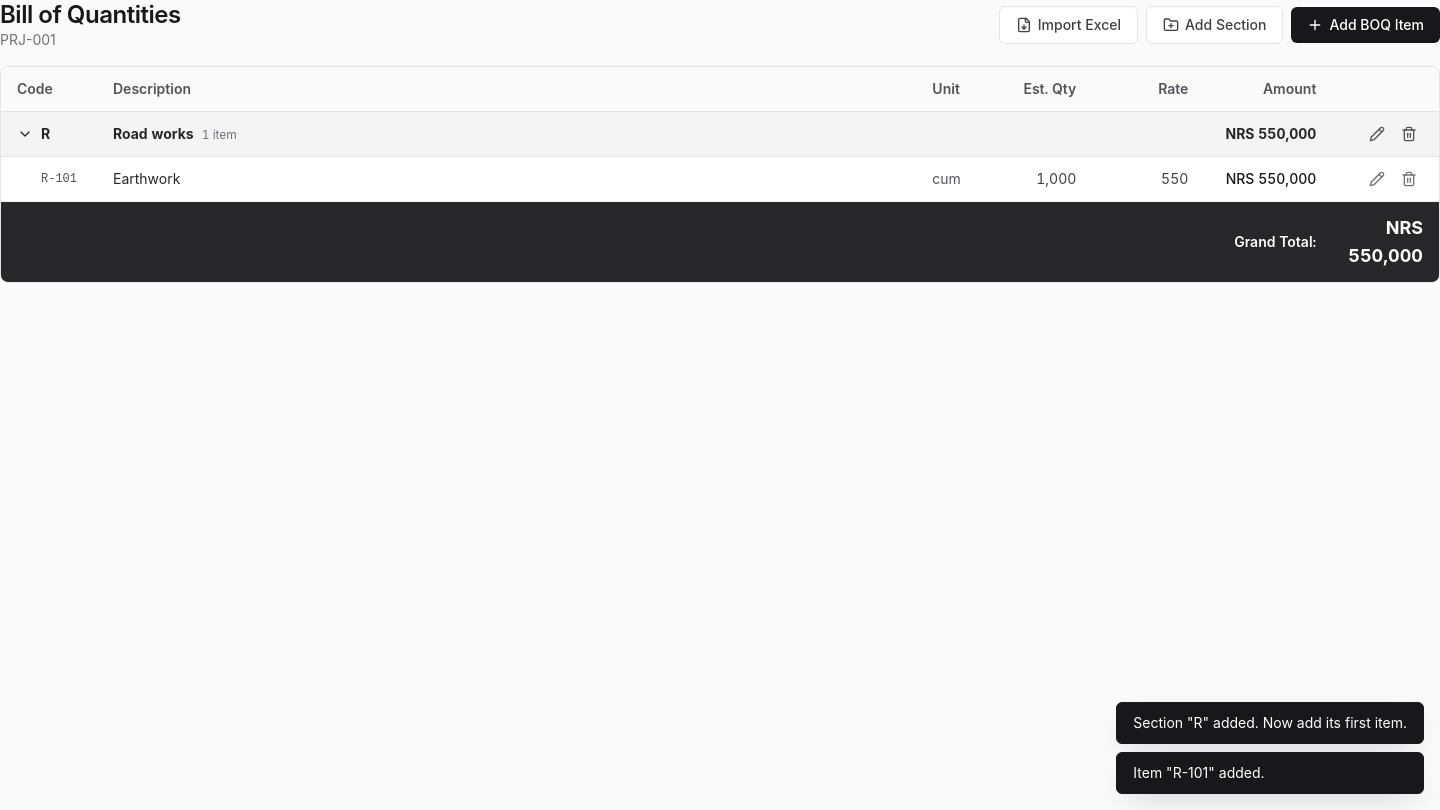
Test: BOQ page — validation › blocks duplicate codes across the whole BOQ
Click the button with test id "add-item".
click(1366, 25)  # box [1291,7,1439,43]
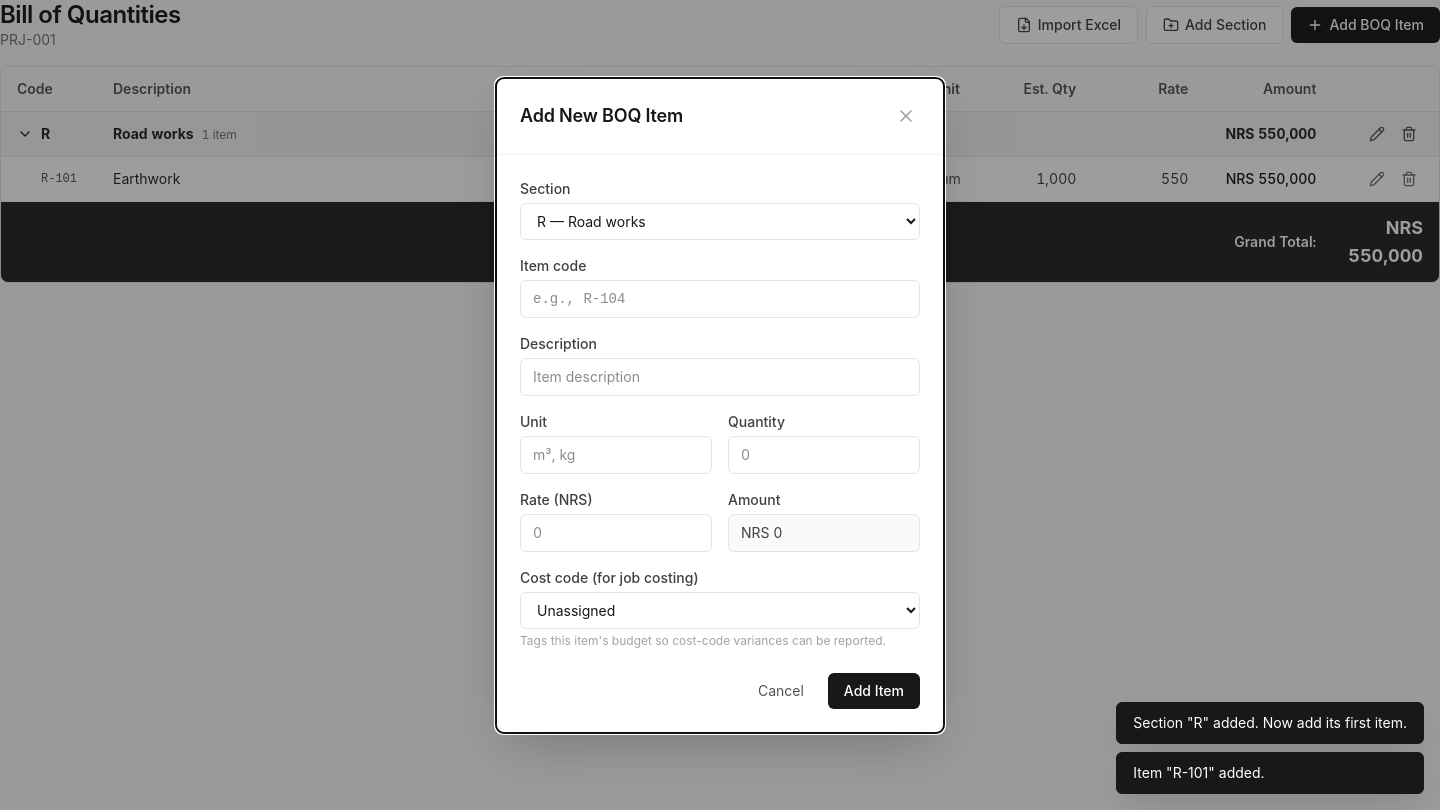
Type " r-101 " into the field labelled "Item code".
click(720, 298); type(" r-101 ")  # box [520,280,920,318]
Type "Duplicate" into the field labelled "Description".
click(720, 376); type("Duplicate")  # box [520,358,920,396]
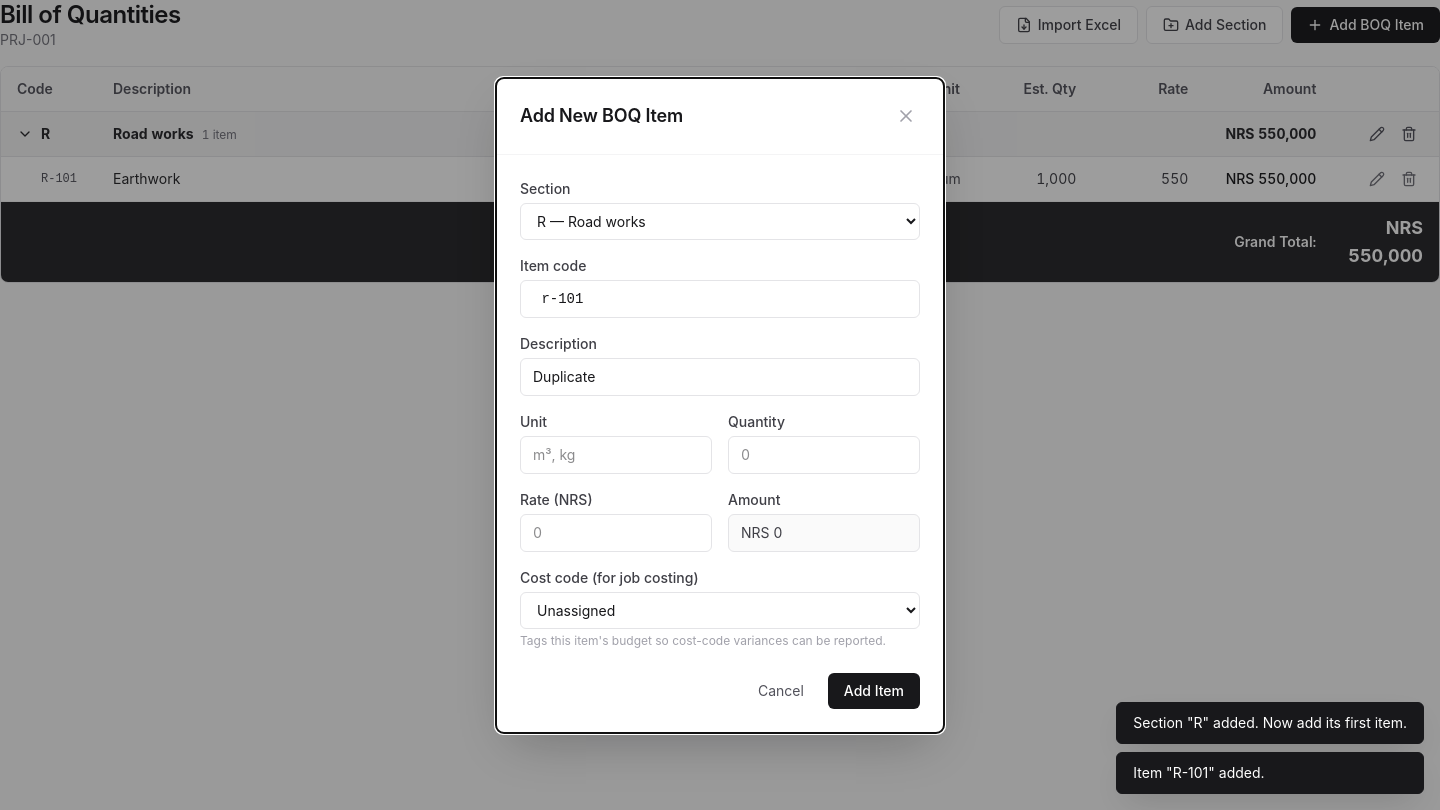
Type "cum" into the field labelled "Unit".
click(616, 454); type("cum")  # box [520,436,712,474]
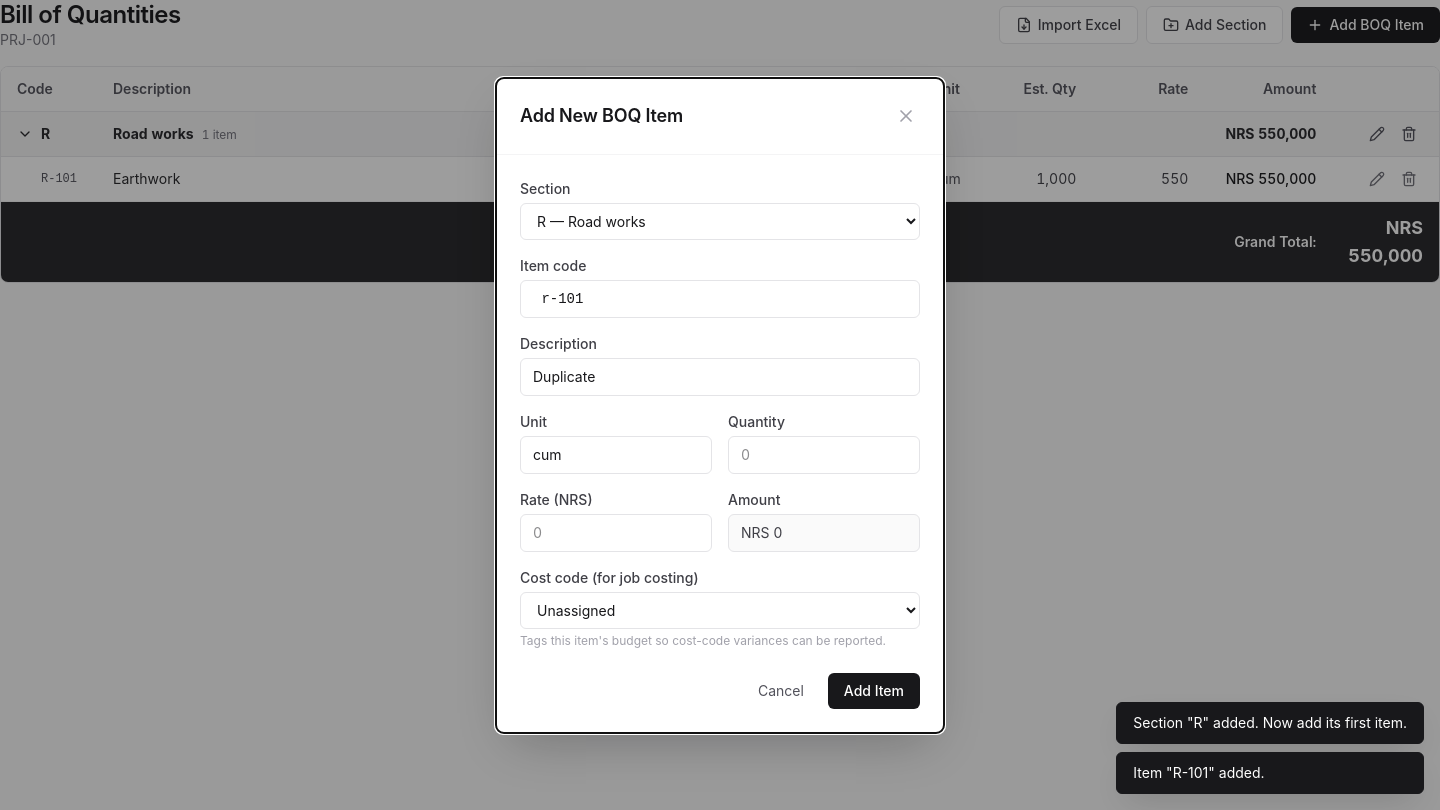
Type "1" into the number field labelled "Quantity".
click(824, 454); type("1")  # box [728,436,920,474]
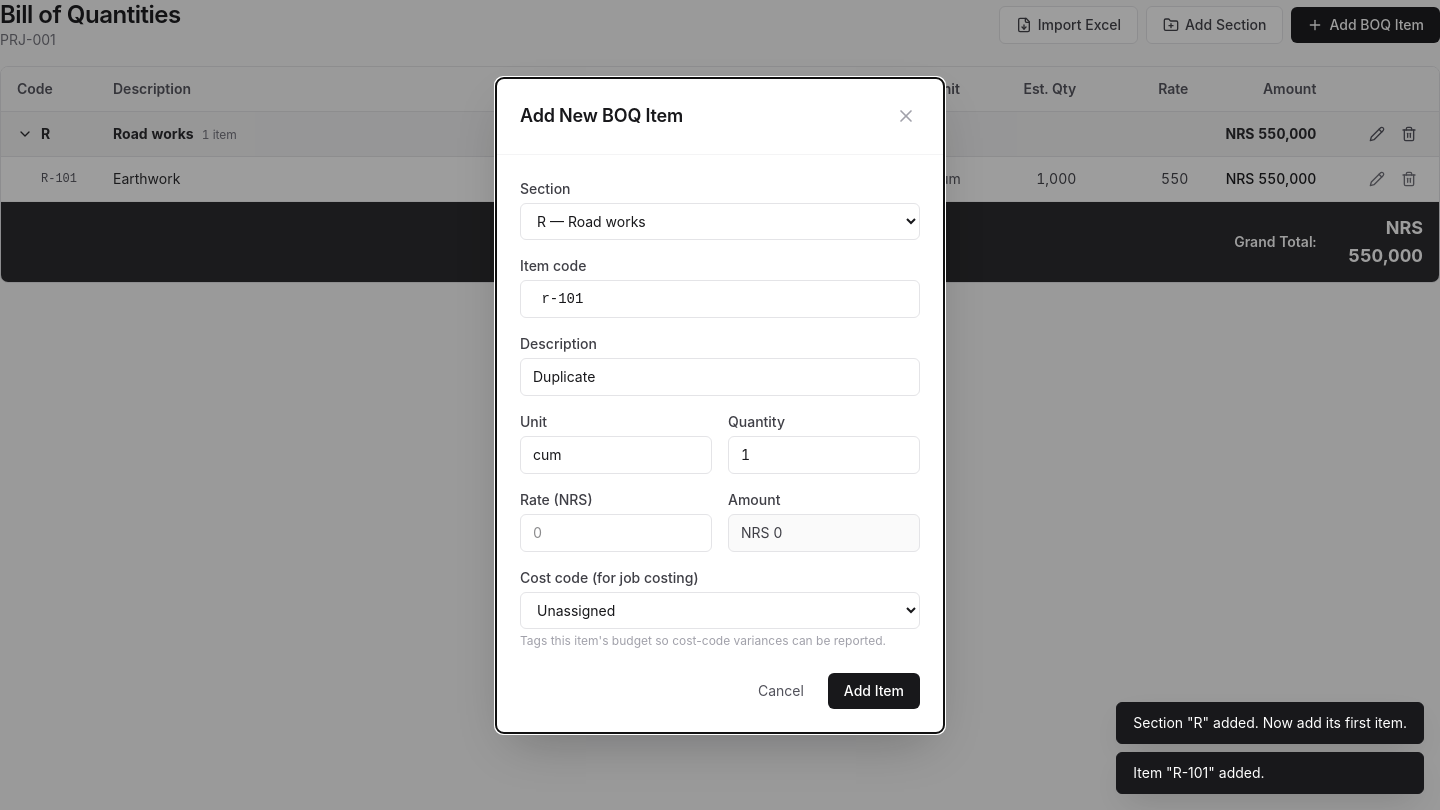
Type "1" into the number field labelled "Rate (NRS)".
click(616, 532); type("1")  # box [520,514,712,552]
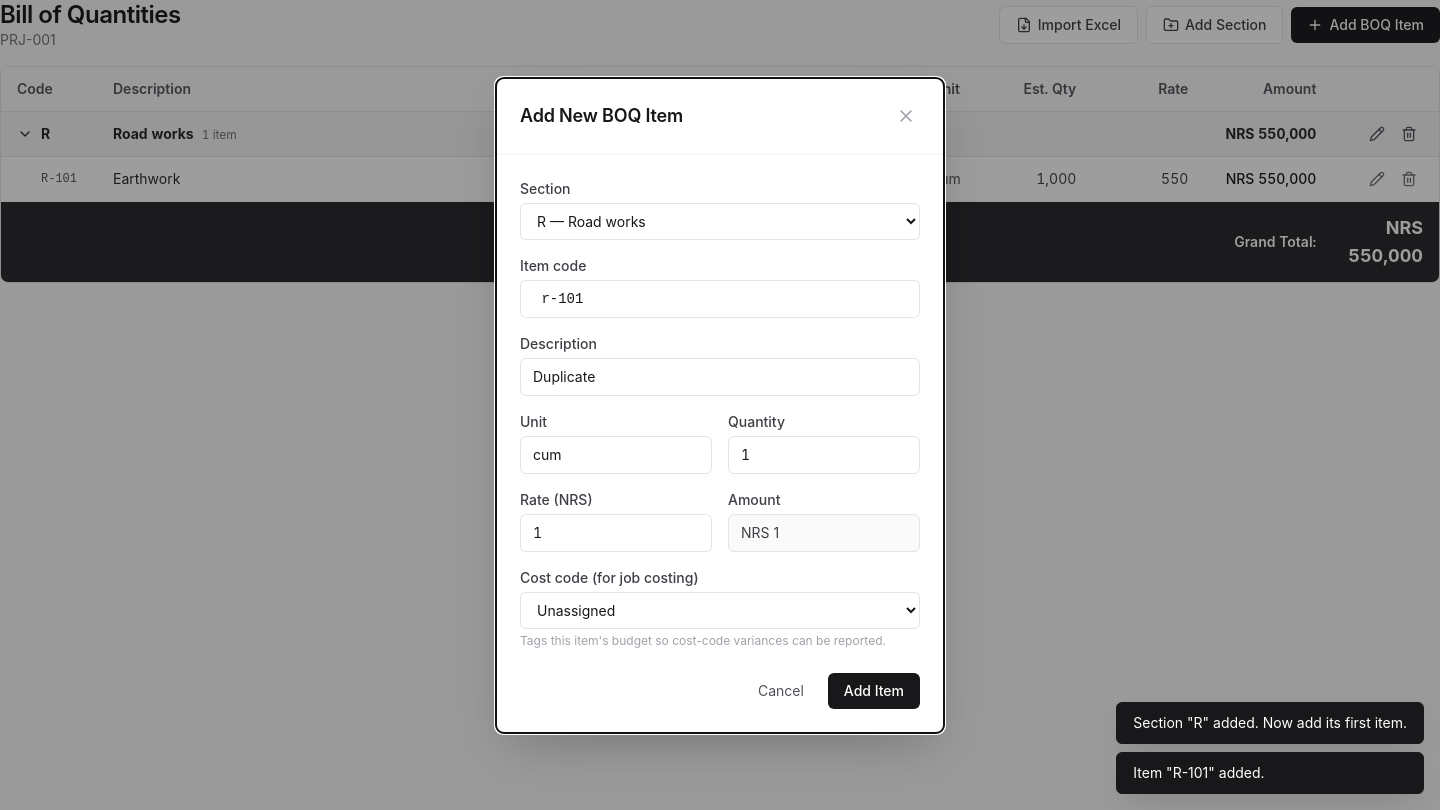
Click the button "Add Item".
click(874, 690)  # box [828,672,920,708]
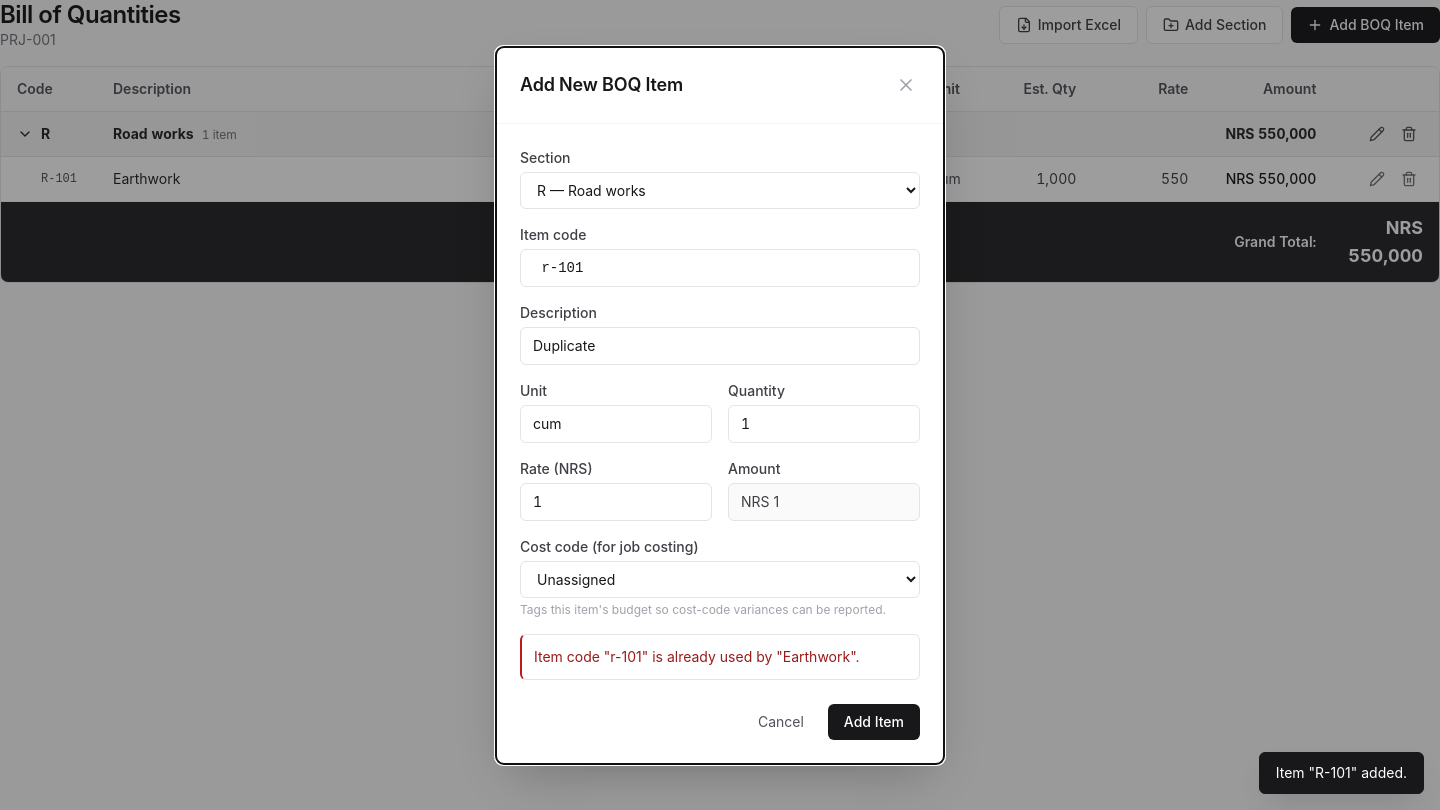
Now the message with test id "boq-item-errors" shows "already used", box [534,648,860,664]
